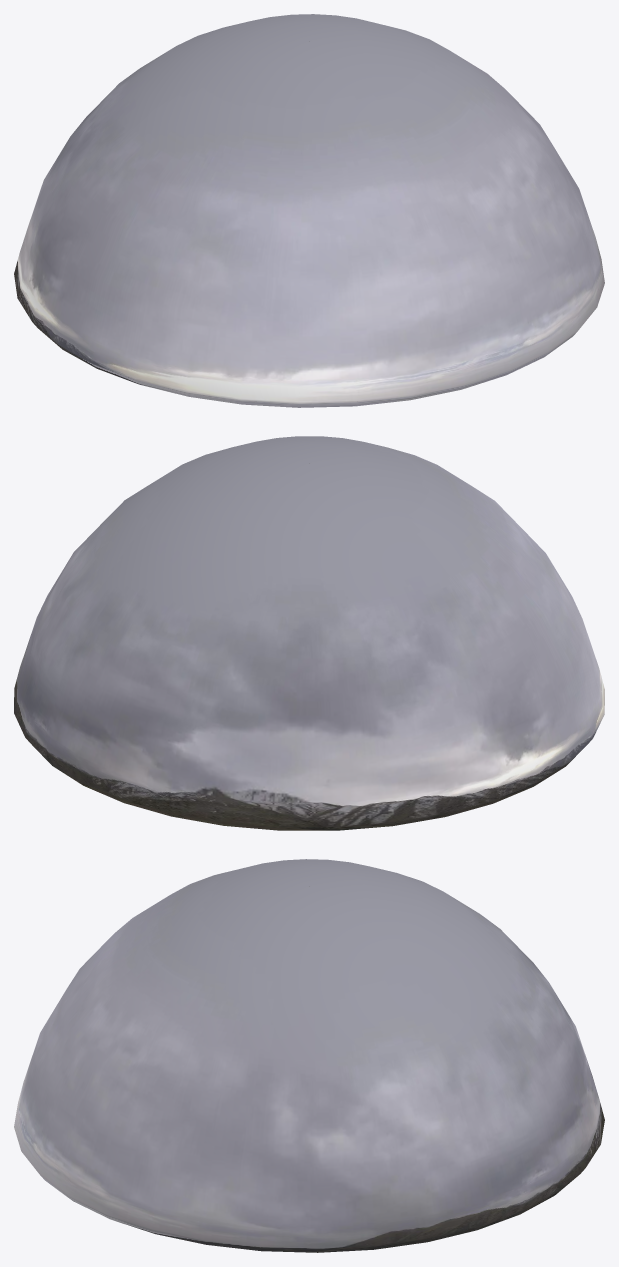
The model's file is panoramic-interior.glb.
The picture shows the model from 3 angles, top to bottom: view 1: azimuth 30°, elevation 25°; view 2: azimuth 150°, elevation 25°; view 3: azimuth 270°, elevation 25°; orthographic projection.
Parts seen in each view (by area): view 1: Sphere; view 2: Sphere; view 3: Sphere.
Boxes of the visible parts, x1,y1,x2,y2 form: Sphere: (14, 14, 604, 407); Sphere: (14, 436, 604, 830); Sphere: (14, 859, 604, 1252).
Size of the model in its own units: 103 by 52.47 by 103.
15 materials, 12 textured.
